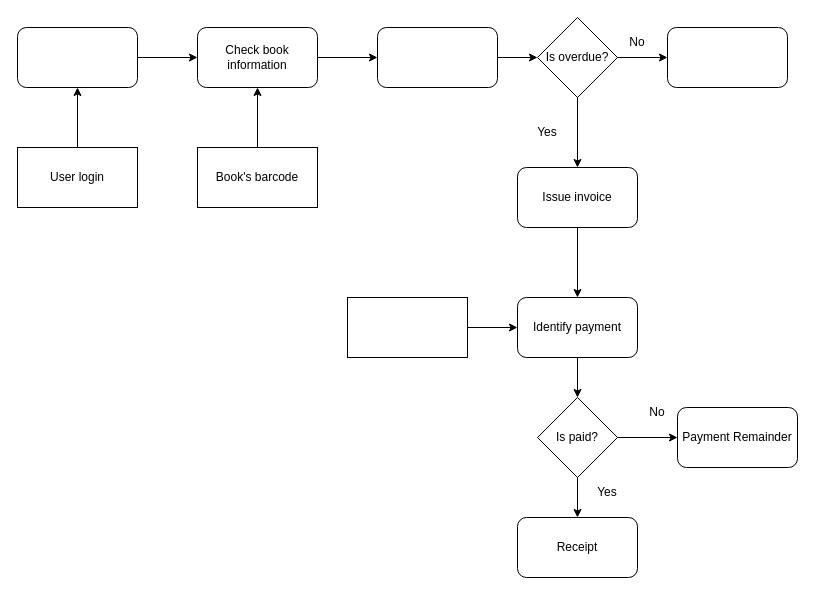
Some shapes in this 815 by 595 pixel diagram are drawn without their labels. The box of each missing label's shape, as (x1, y1, x2, y2) in pixels:
Check overdue: (376, 26, 498, 88)
Check user's account: (16, 26, 138, 88)
payment: (346, 296, 468, 358)
Return successfully: (666, 26, 788, 88)
